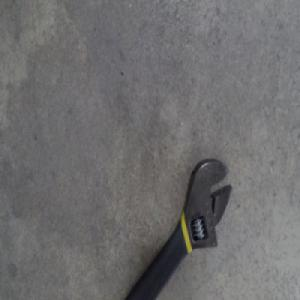AdjustableWrench: (122, 158, 233, 299)
